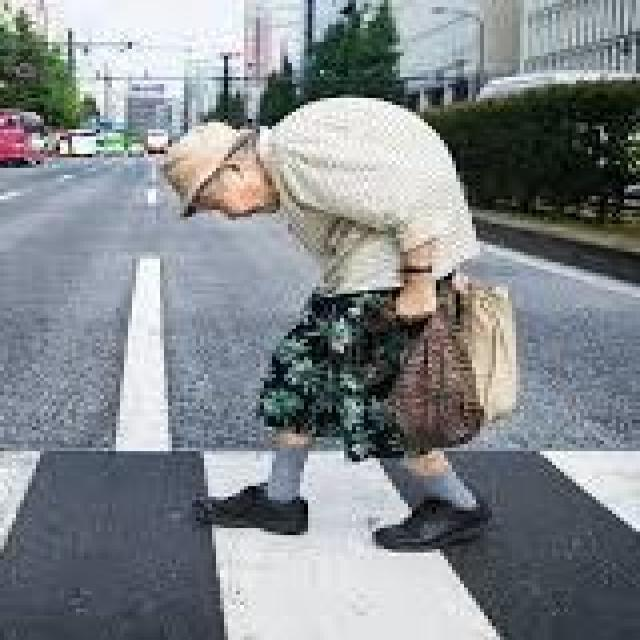idoso em pe: (162, 89, 528, 566)
